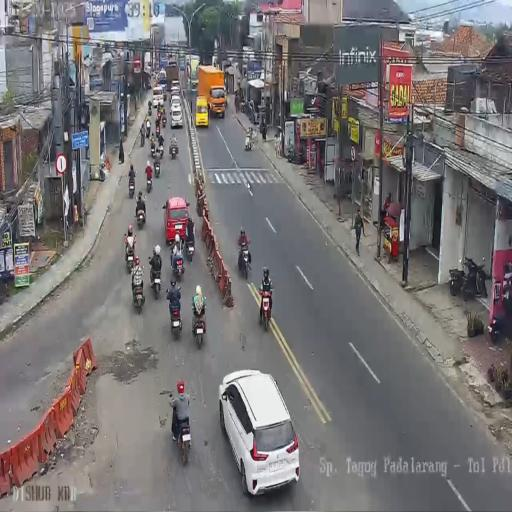car: (218, 367, 299, 495), (163, 196, 190, 246), (195, 96, 209, 128), (152, 86, 164, 108), (170, 95, 182, 116), (171, 80, 180, 97), (190, 78, 199, 90)
motorcycle: (449, 256, 488, 300), (171, 398, 192, 464), (167, 290, 183, 338), (258, 284, 273, 332), (192, 298, 206, 348), (131, 268, 145, 312), (238, 242, 252, 280), (149, 258, 162, 296), (171, 244, 185, 278), (184, 223, 195, 262), (124, 236, 136, 268), (136, 199, 146, 228), (153, 154, 161, 178), (128, 172, 135, 198), (169, 139, 178, 159), (146, 170, 153, 193), (150, 139, 157, 158), (145, 118, 151, 138), (161, 110, 167, 128), (140, 126, 145, 147), (240, 99, 245, 115), (147, 100, 152, 115), (163, 90, 167, 101)
truck: (143, 51, 152, 76), (158, 69, 168, 90)
